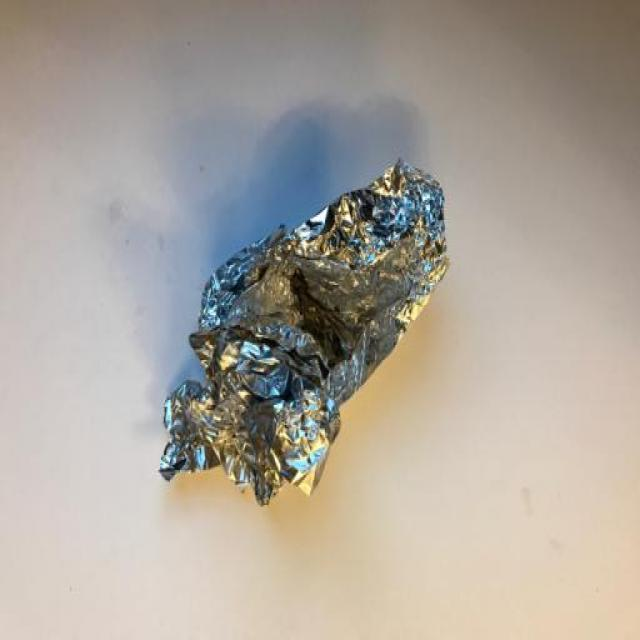others: (135, 140, 485, 517)
